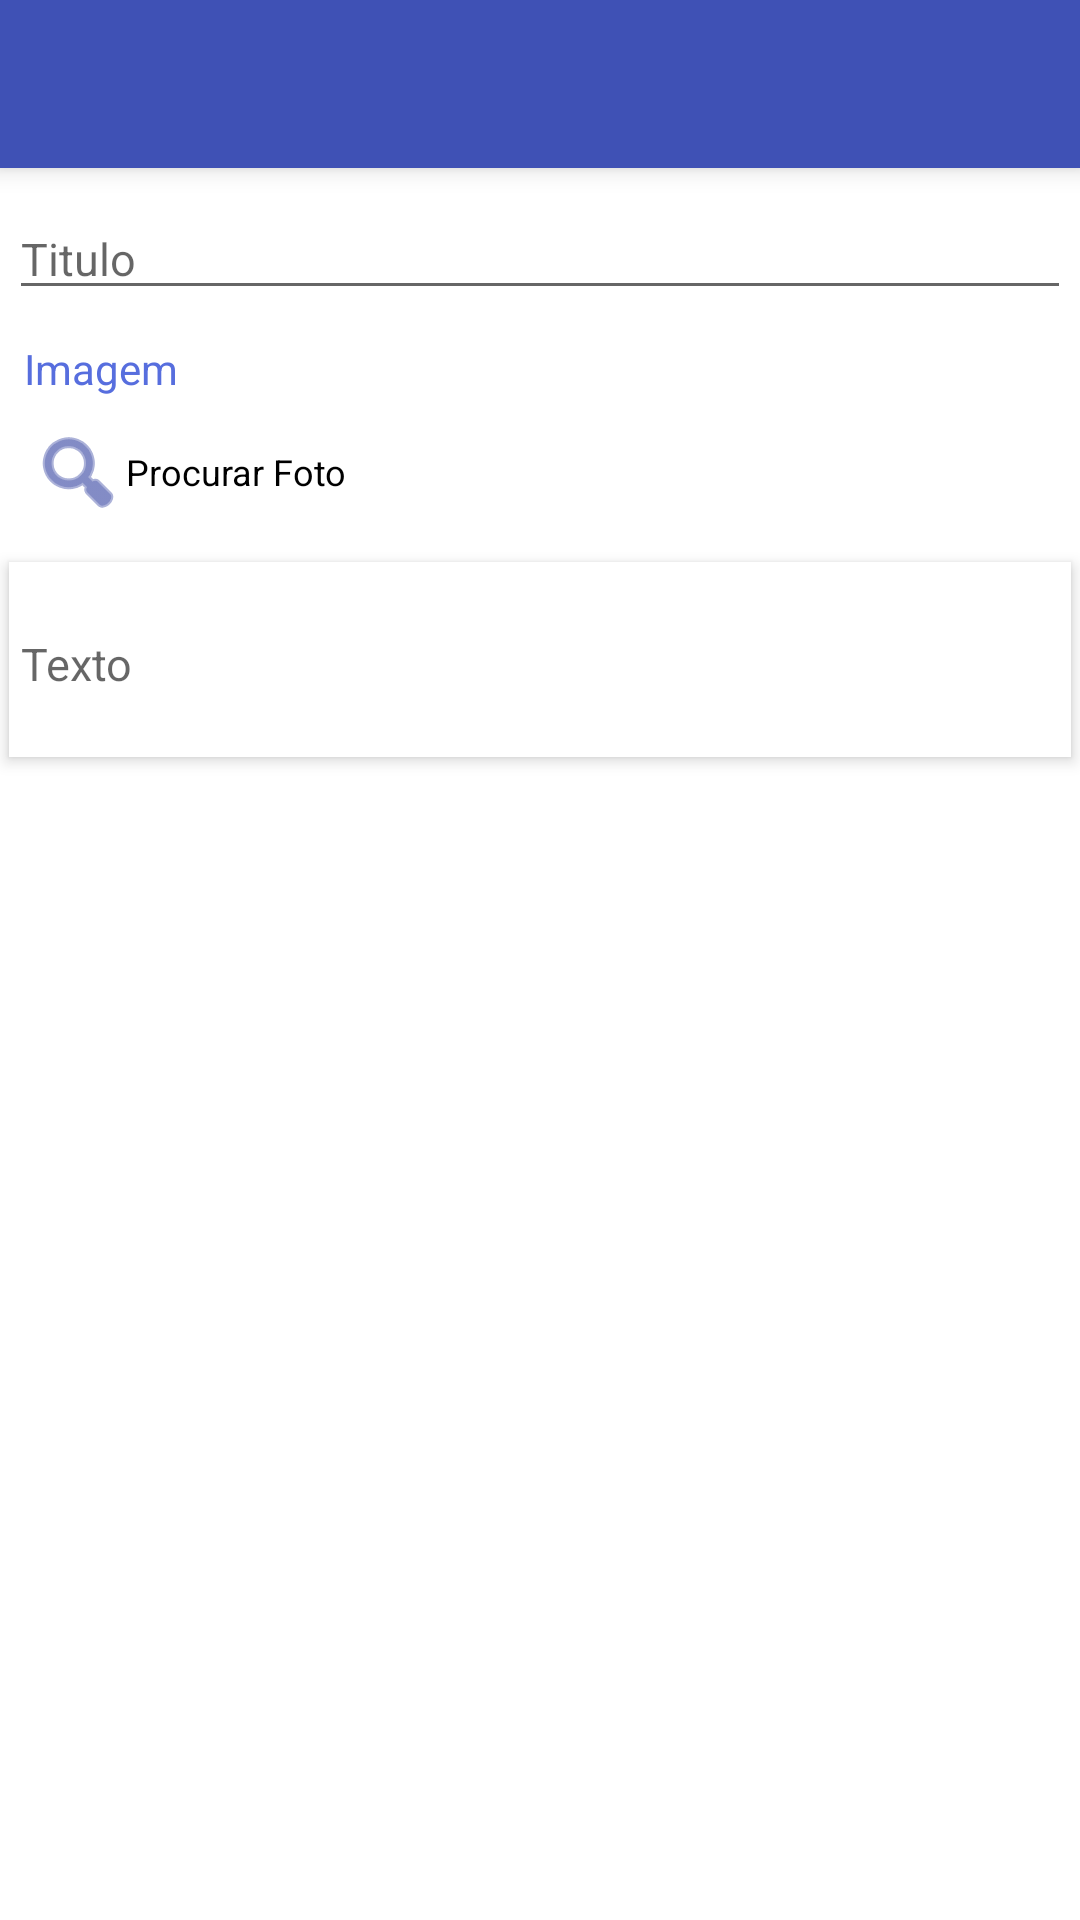

Icon bounding boxes for this 1080px x 1920px phone screenshot, format (x1, y1, x2, y2):
search: (43, 437, 113, 508)
